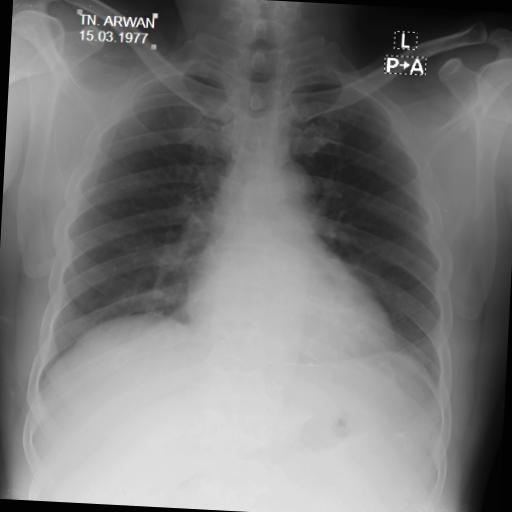kardiomegali: (26, 23, 471, 418)
